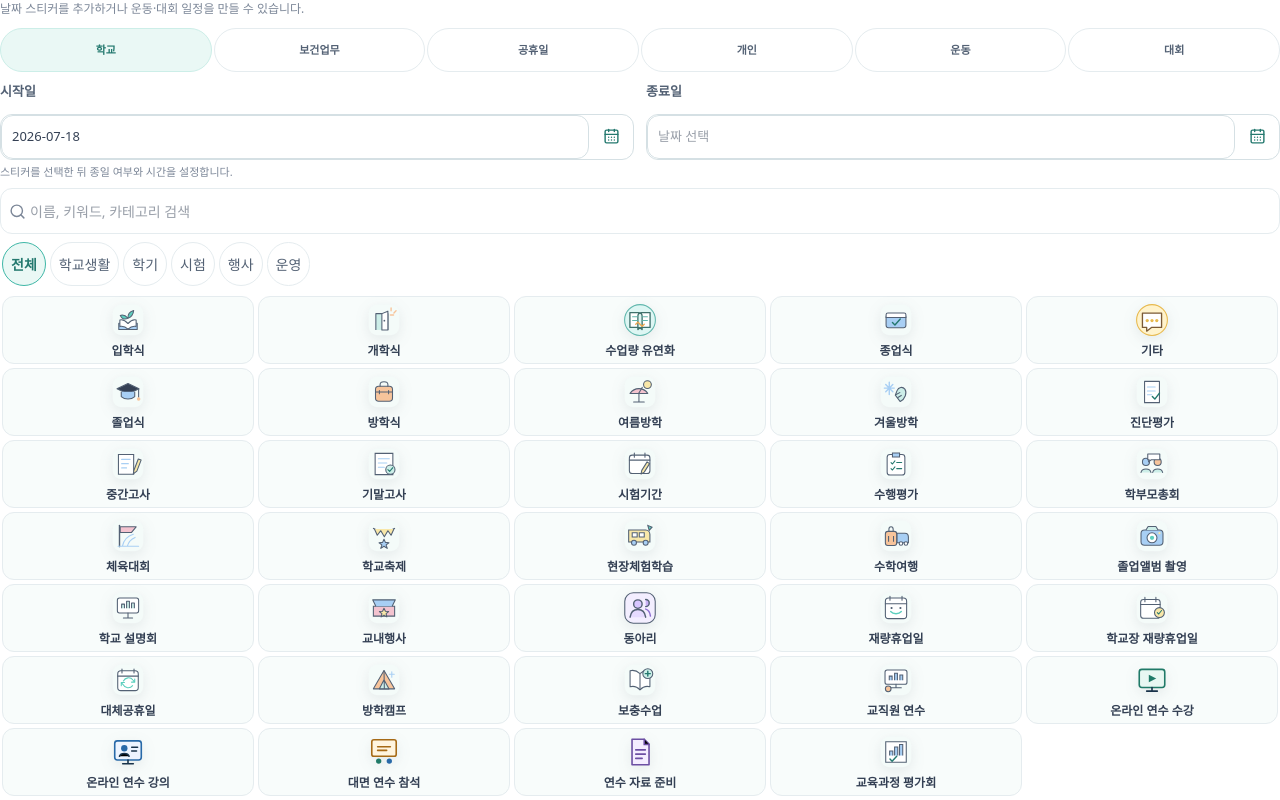
Test: SchoolStickerPicker › shows health categories and searches health stickers by school terms
Click the tab "보건업무".
click(320, 50)  # box [214,28,425,72]
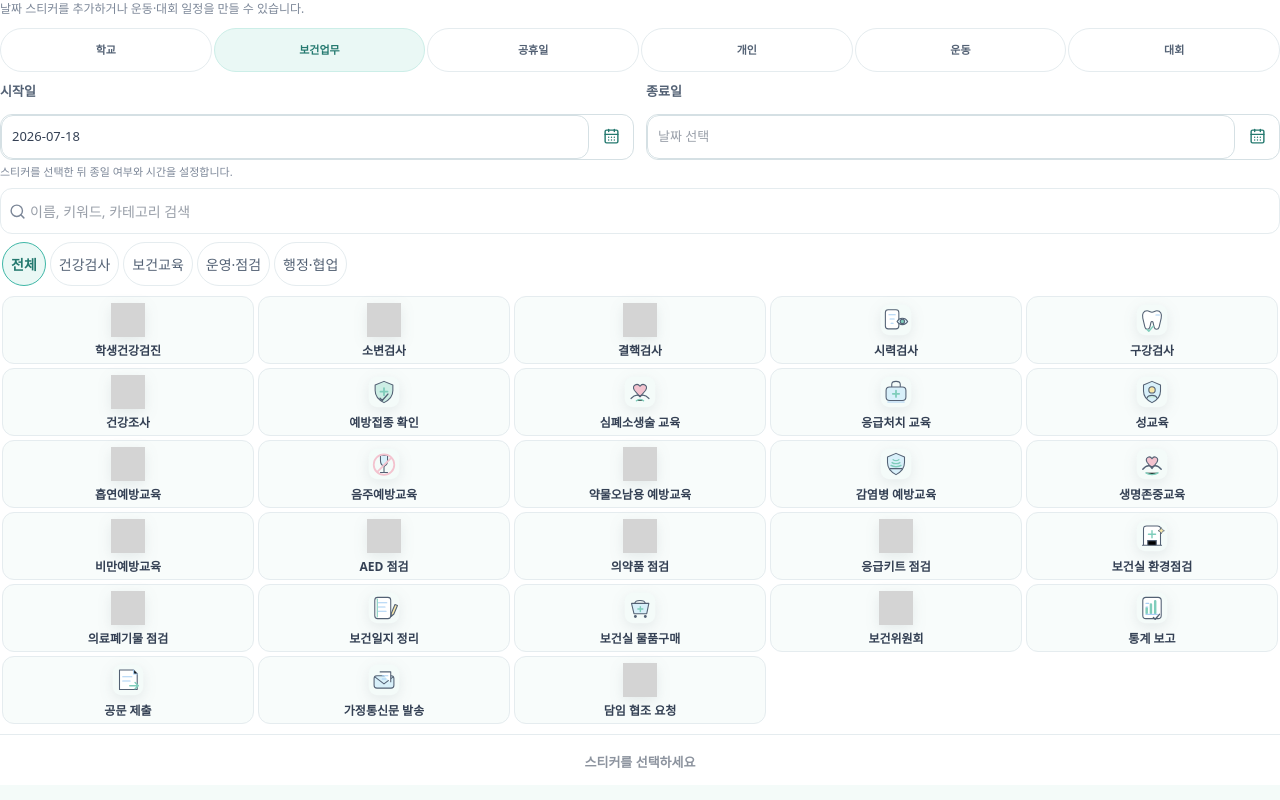
Check: the button "보건교육" is shown, box [123,242,193,286]
Check: the button "운영·점검" is shown, box [197,242,270,286]
Check: the button "행정·협업" is shown, box [274,242,347,286]
Type "검사" into the search field named "스티커 검색".
click(650, 211); type("검사")  # box [30,189,1271,233]
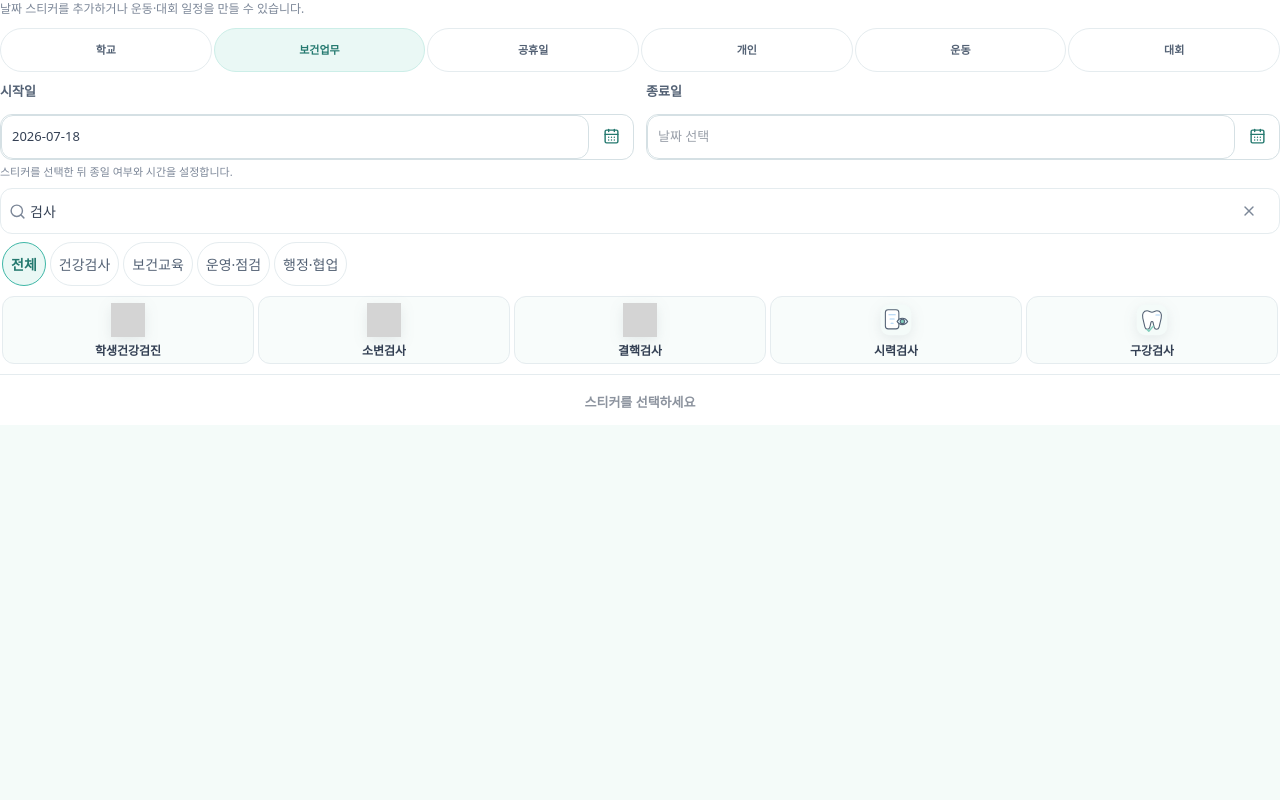
Check: the button with aria-label "7월 18일 학생건강검진 스티커 선택" is shown, box [2,296,254,364]
Check: the button with aria-label "7월 18일 구강검사 스티커 선택" is shown, box [1026,296,1278,364]
Replace the text in the search field named "스티커 검색" with "교육" at (626, 211), box [30,189,1223,233]
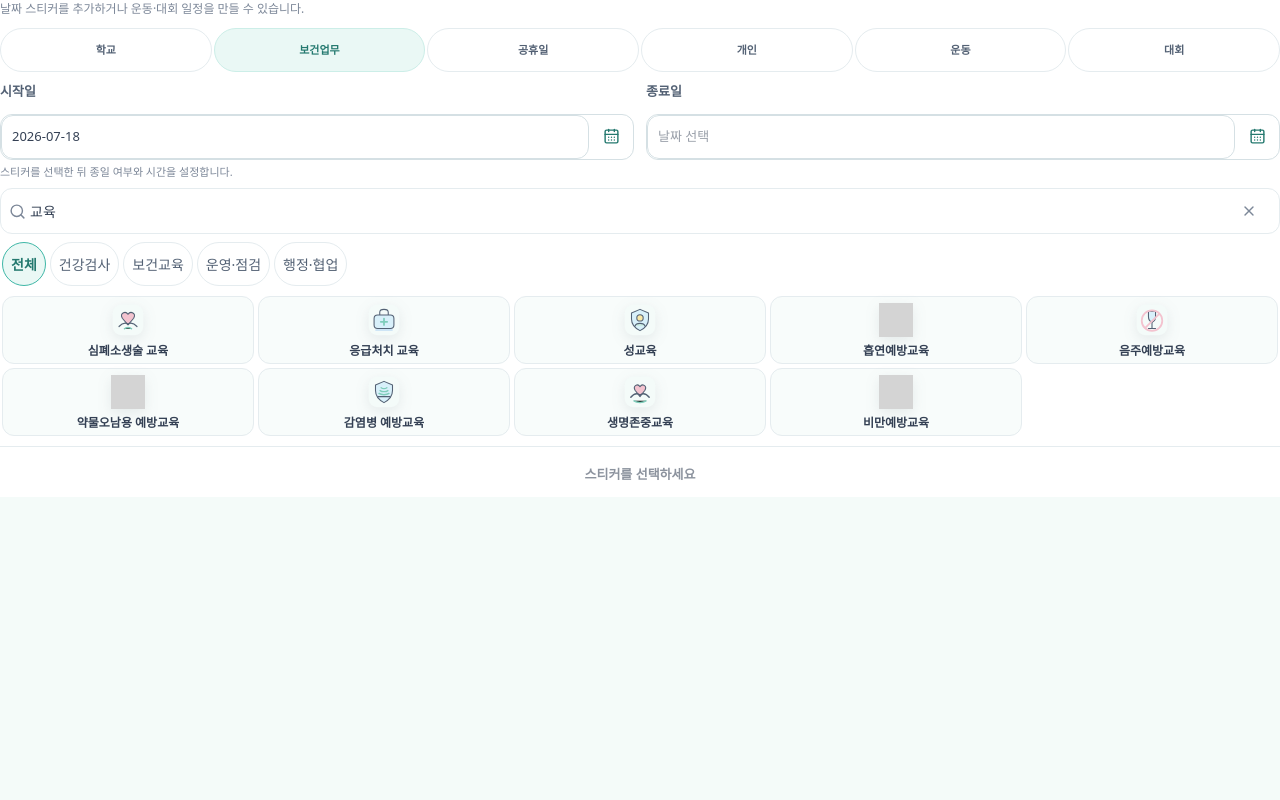
Check: the button with aria-label "7월 18일 심폐소생술 교육 스티커 선택" is shown, box [2,296,254,364]
Check: the button with aria-label "7월 18일 비만예방교육 스티커 선택" is shown, box [770,368,1022,436]
Replace the text in the search field named "스티커 검색" with "CPR" at (626, 211), box [30,189,1223,233]
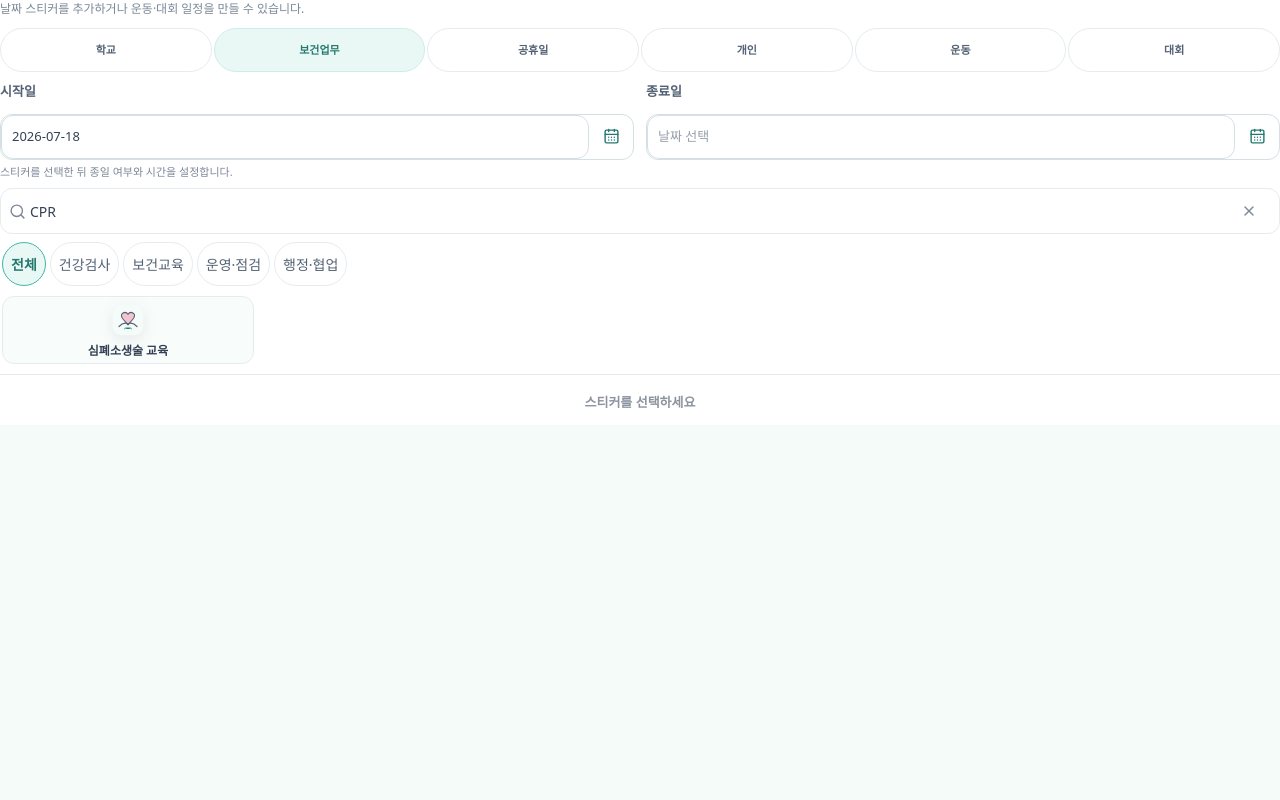
Check: the button with aria-label "7월 18일 심폐소생술 교육 스티커 선택" is shown, box [2,296,254,364]
Replace the text in the search field named "스티커 검색" with "담임" at (626, 211), box [30,189,1223,233]
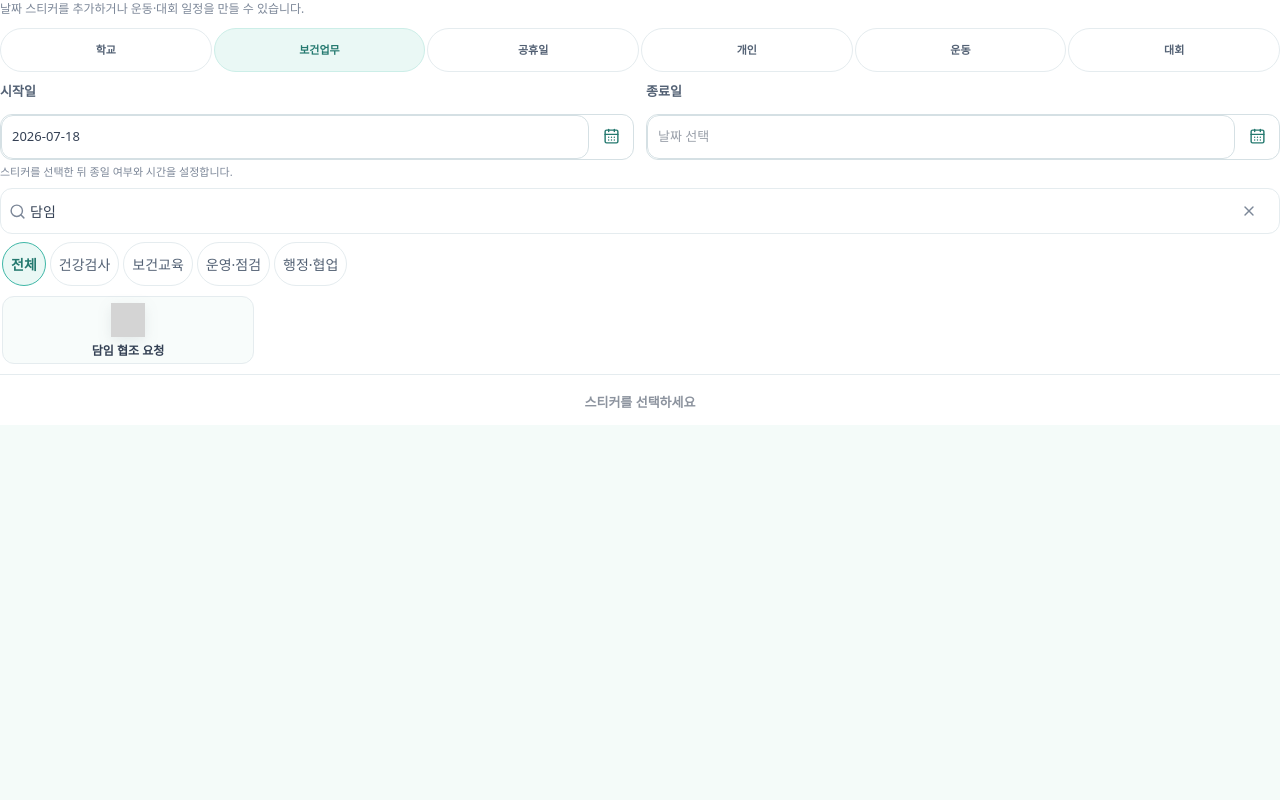
Check: the button with aria-label "7월 18일 담임 협조 요청 스티커 선택" is shown, box [2,296,254,364]
